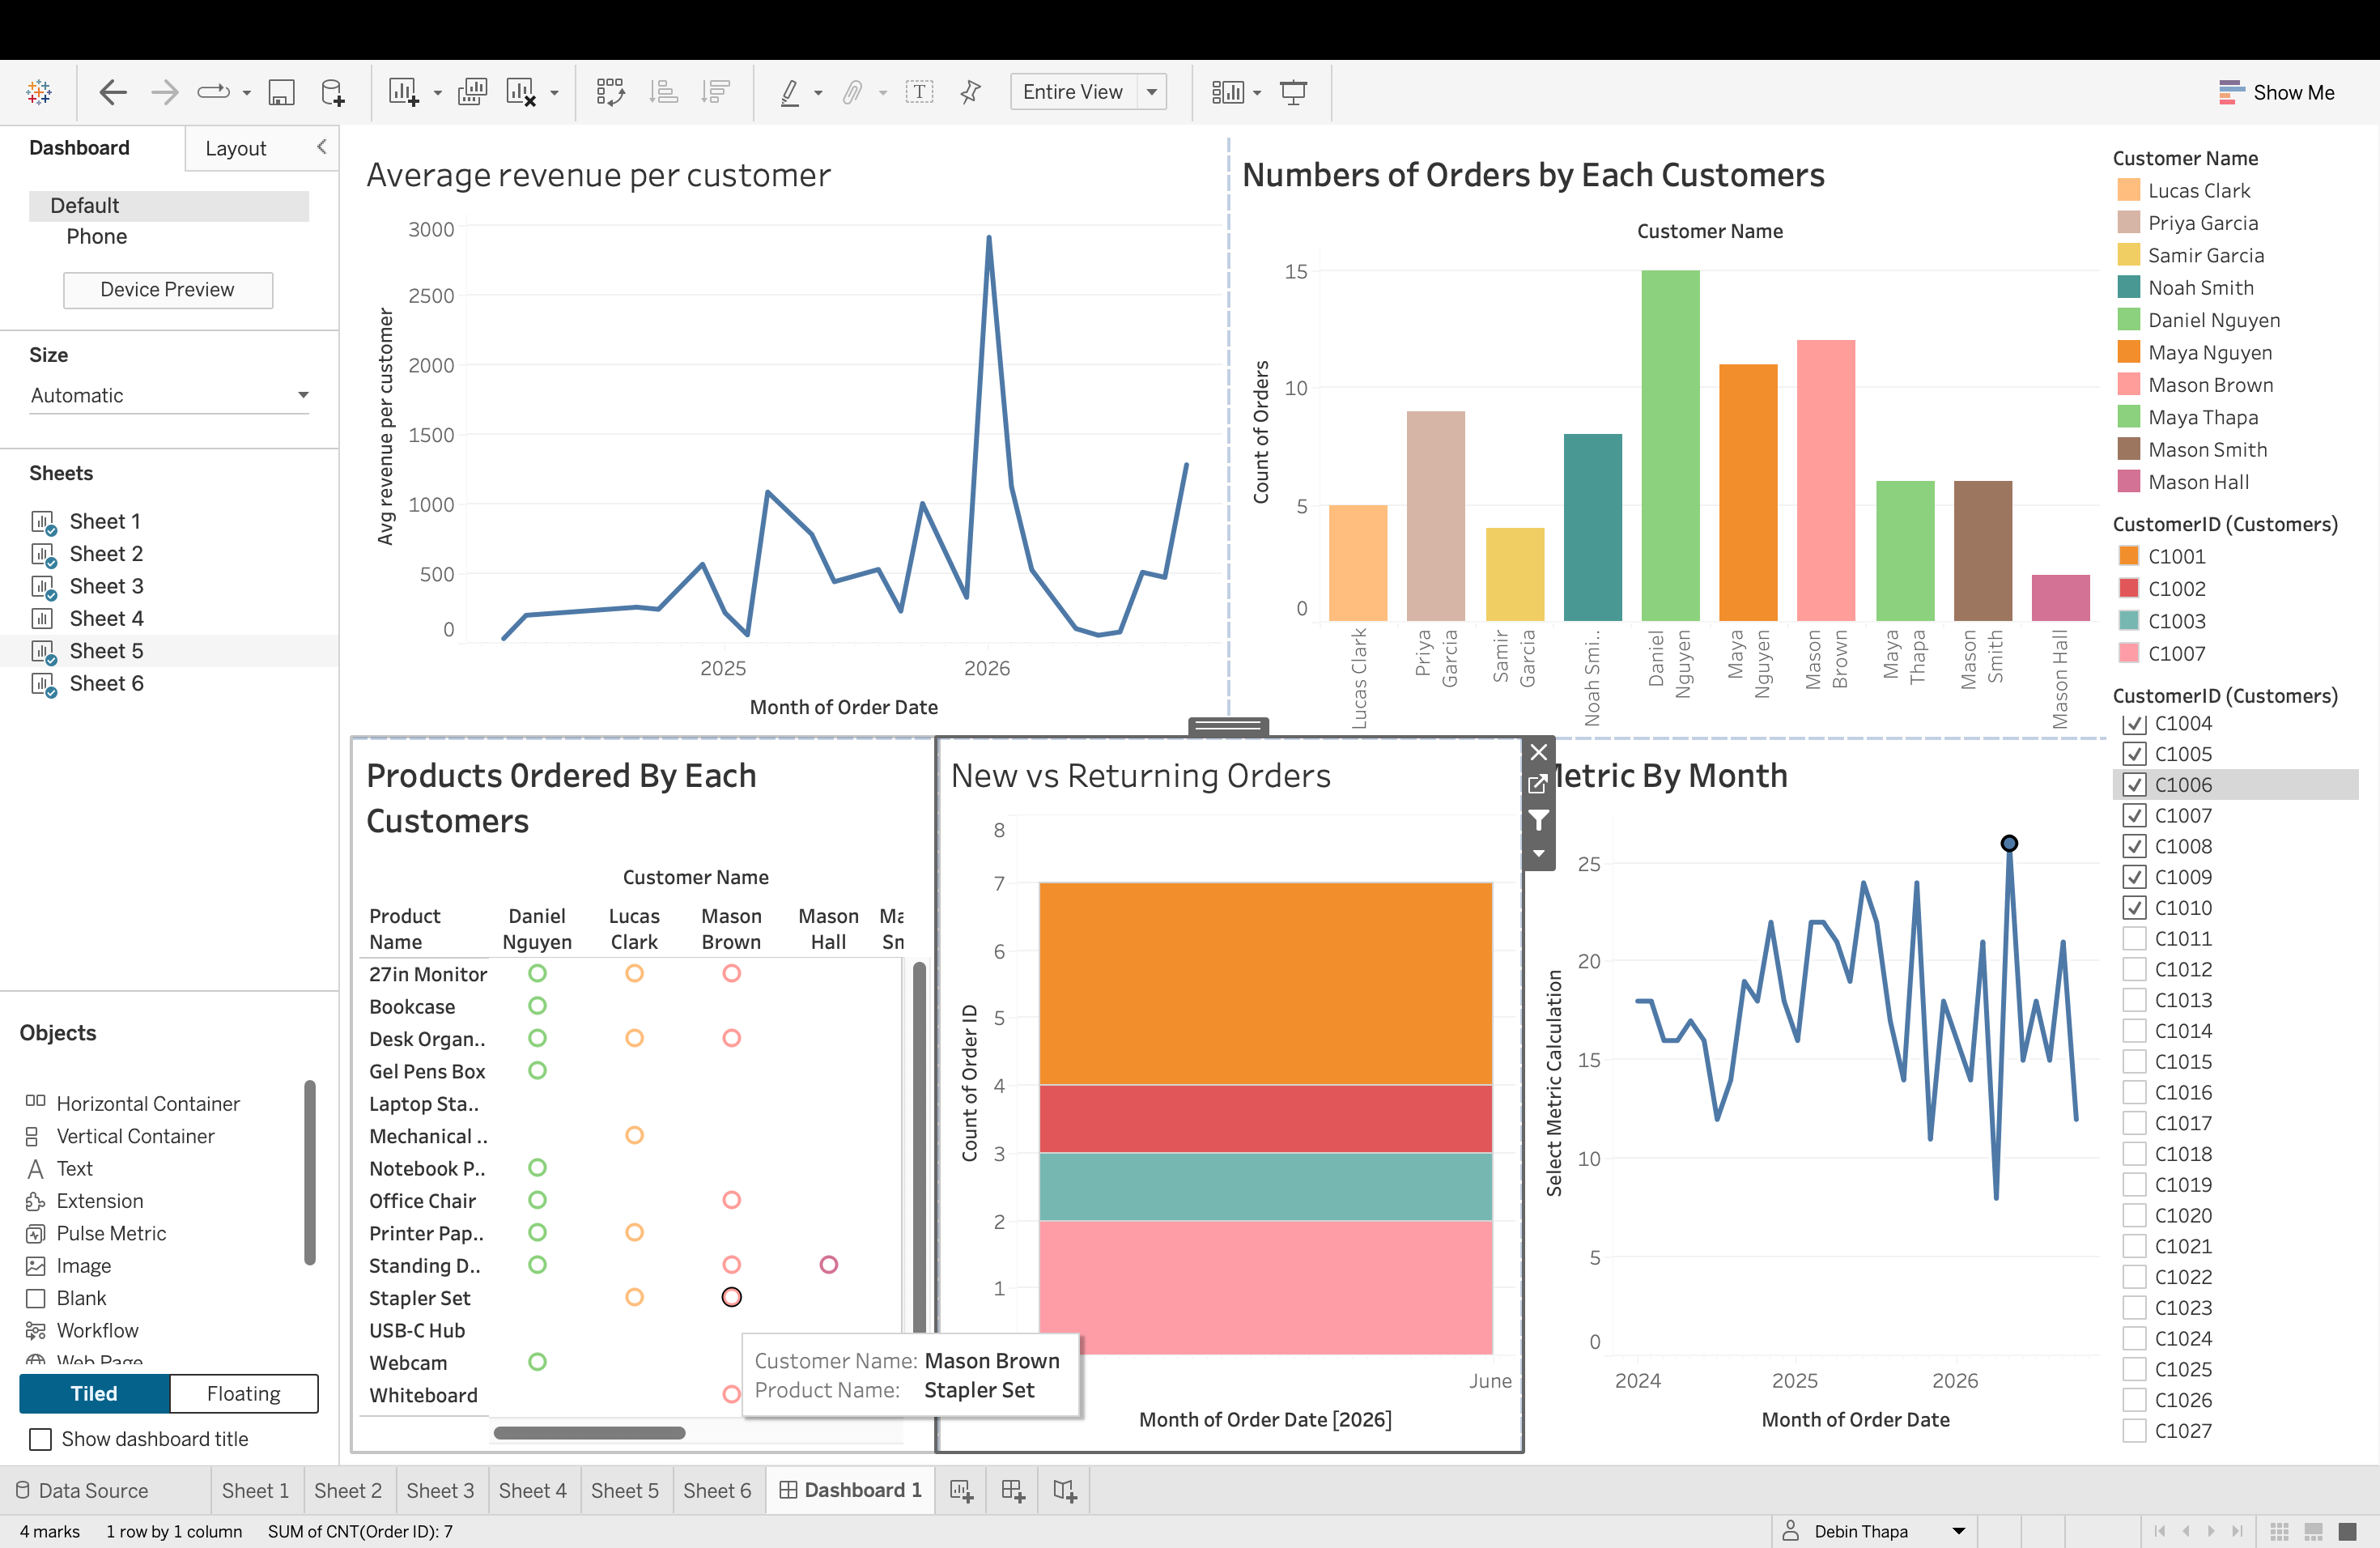

This screenshot's page, from the dashboard's own definition file:
{"tool":"tableau","page":{"name":"Dashboard 1","canvas":[1000,1000],"units":"permille","ordinal":0},"visuals":[{"type":"worksheet","title":"Sheet 1","mark":"Automatic","rows":["Orders_70132AA5BEEA4233B37F5656696E41FA"],"cols":["CustomerName"],"box":[6.4,10.9,860.2,447.5]},{"type":"legend","title":"Sheet 1","param":"[federated.0cxe4vj1i6p4xl19x51wr1xeiqpi].[none:CustomerName:nk]","box":[866.6,10.9,127.1,978.1]},{"type":"worksheet","title":"Sheet 2","mark":"Shape","rows":["ProductName"],"cols":["CustomerName"],"box":[6.4,458.5,327.7,530.6]},{"type":"worksheet","title":"Sheet 4","mark":"Line","rows":["UnitPrice"],"cols":["ProductName"],"box":[334.1,458.5,254.1,530.6]},{"type":"worksheet","title":"Sheet 3","mark":"VizExtension","box":[588.2,458.5,278.4,530.6]}]}

Visuals, with their boxes on the dashboard's canvas, which has no fixed pixel size, in thousandths of its width and height (x1, y1, x2, y2). These are canvas units, not pixel positions in the 2380x1548 screenshot, which may show the page scaled, cropped or inside an application window:
"Sheet 1" worksheet: crop(6, 11, 867, 458)
"Sheet 1" legend: crop(867, 11, 994, 989)
"Sheet 2" worksheet (Shape marks): crop(6, 458, 334, 989)
"Sheet 4" worksheet (Line marks): crop(334, 458, 588, 989)
"Sheet 3" worksheet (VizExtension marks): crop(588, 458, 867, 989)
